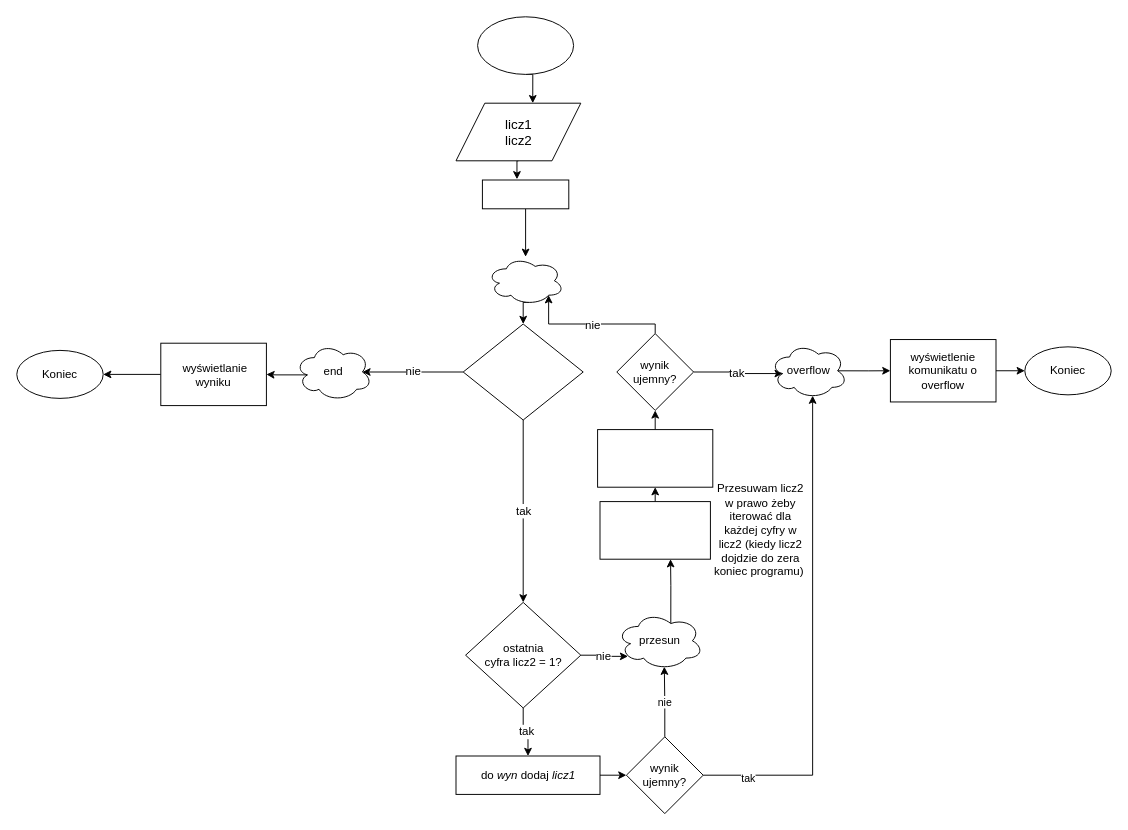
Image size: 1128x830. Some labels were removed from this diagram. The centre of each missing label's shape, as x and y in pixels:
"liczba 2 > 0" belongs at pixel 522 371.
"petla" belongs at pixel 525 280.
"przesuń licz1 w lewo o jedno miejsce (pomnóż)" belongs at pixel 655 458.
"przesuń licz2 w prawo o jedno miejsce (podziel)" belongs at pixel 654 530.
"Start" belongs at pixel 525 45.
"wyn = 0" belongs at pixel 525 194.
